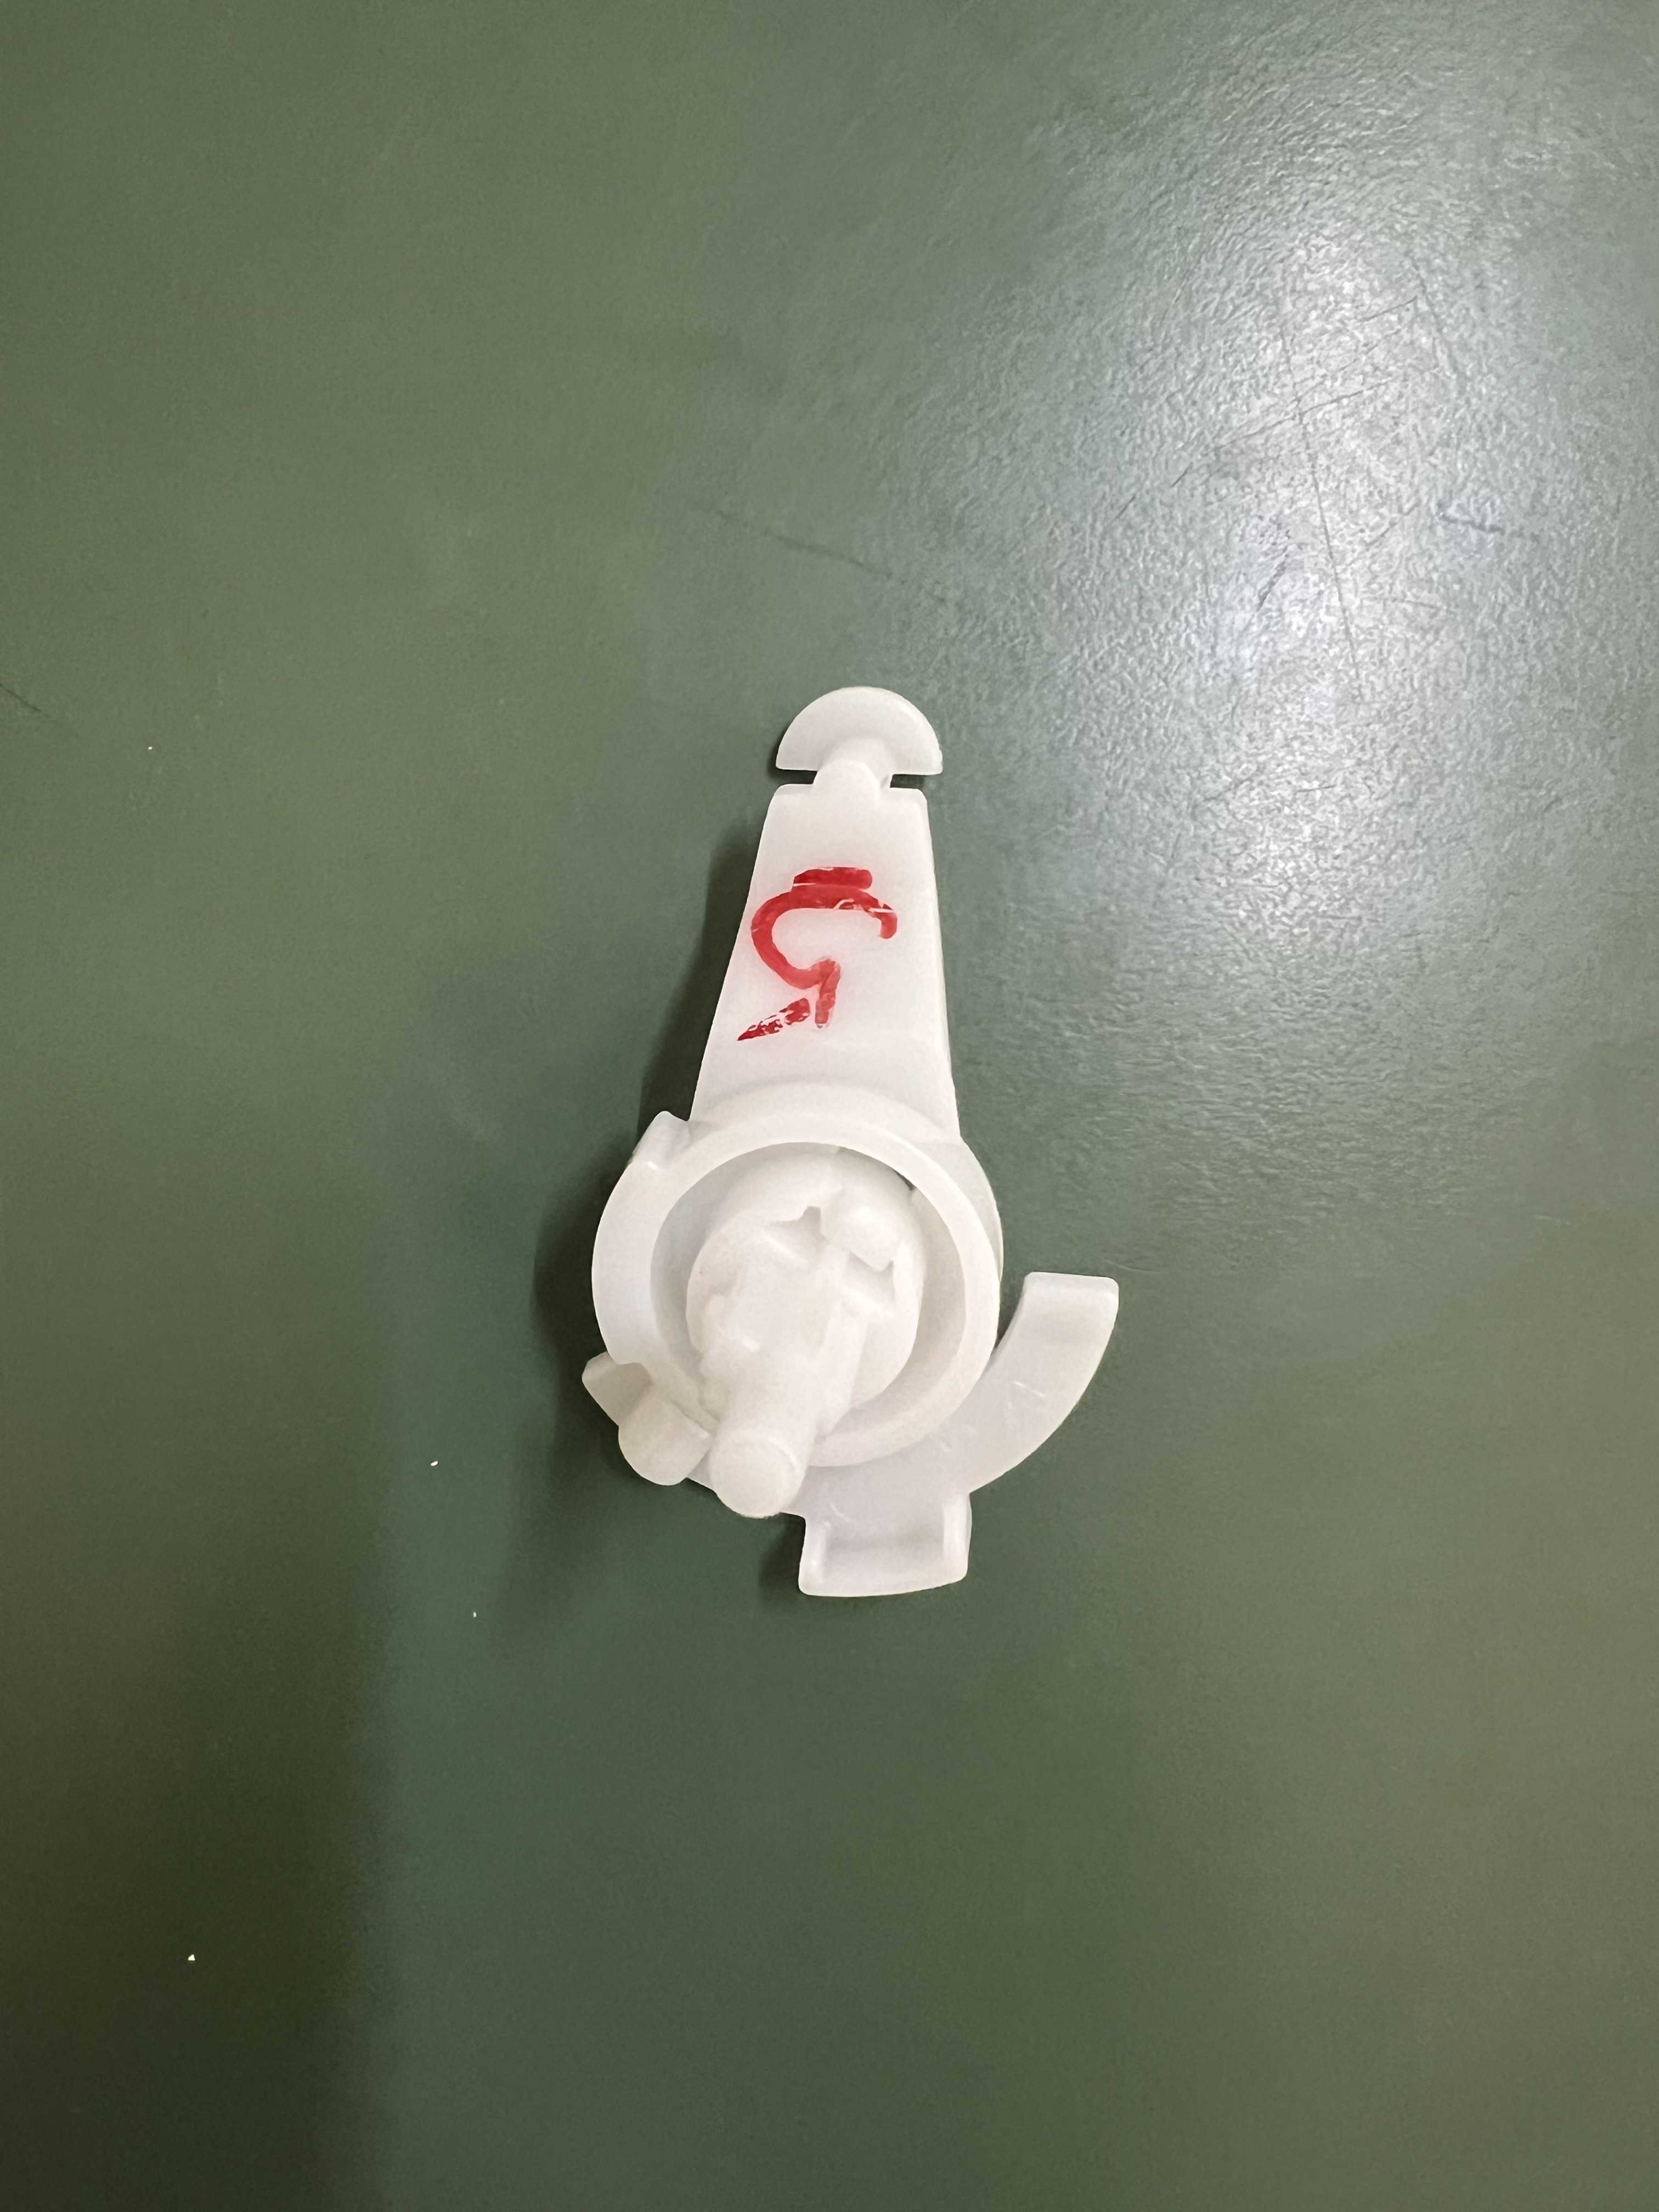drain_lever: (528, 698, 1148, 1599)
